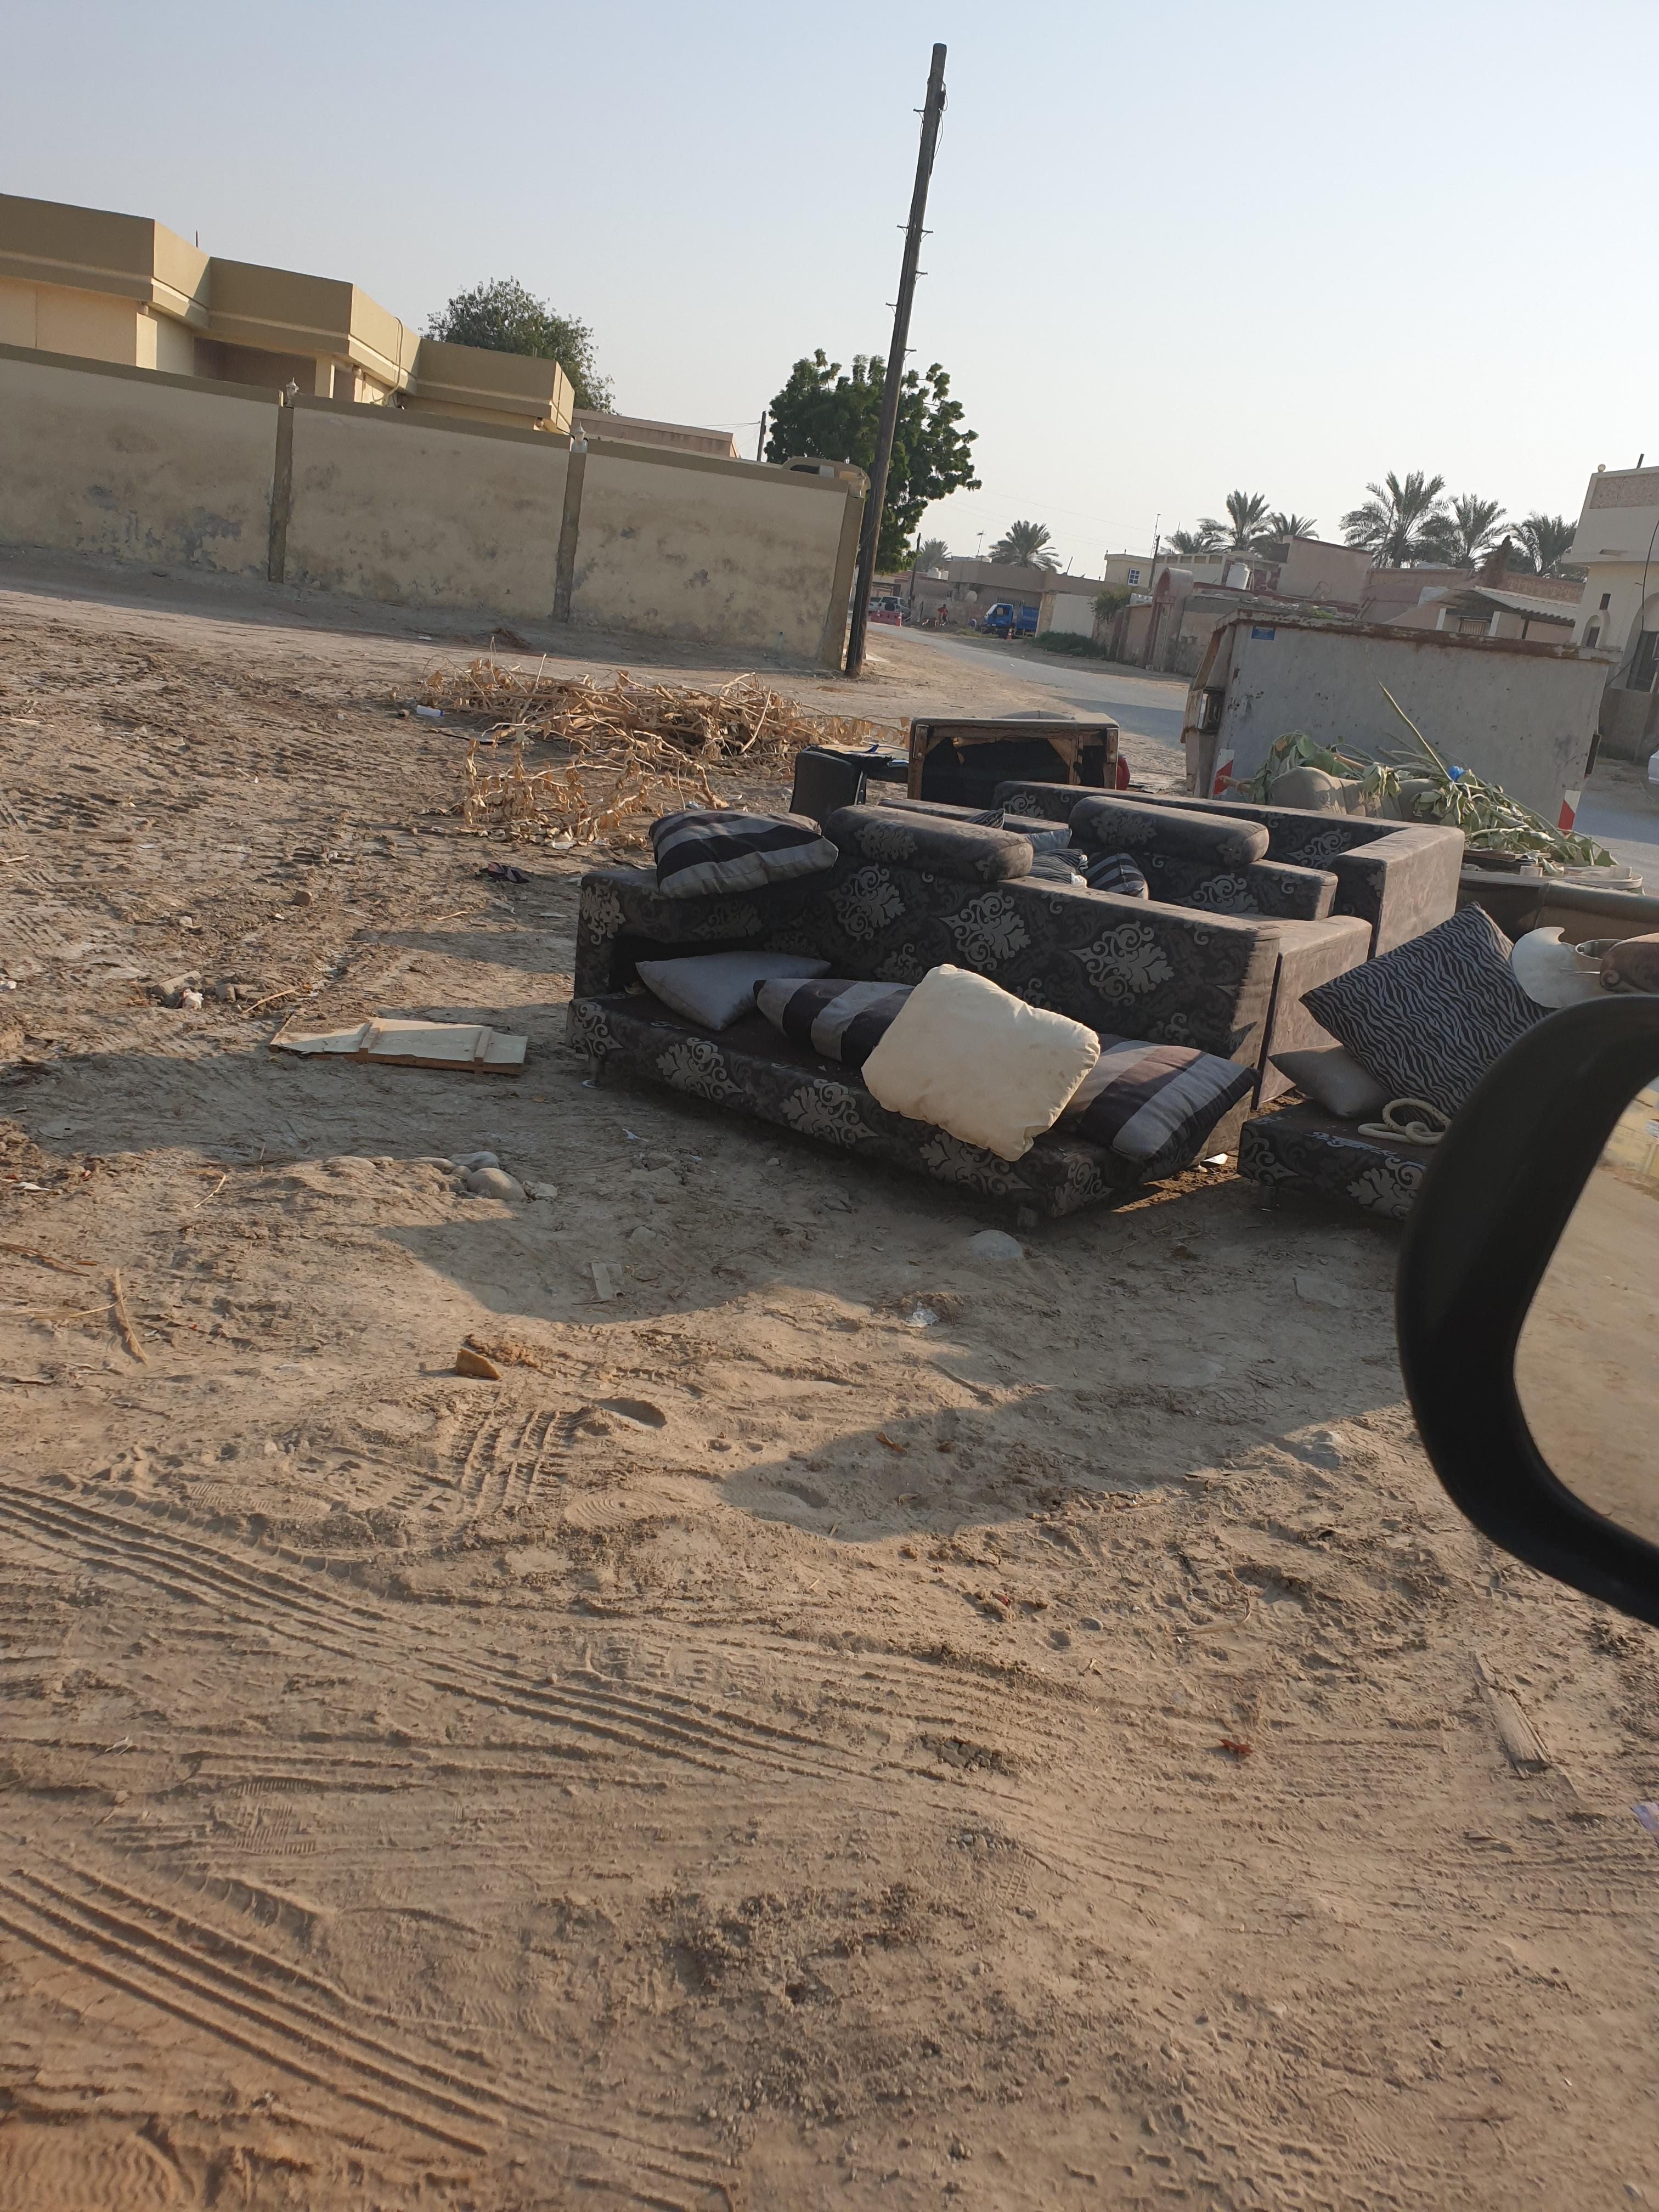fallen_trees: (375, 636, 840, 803), (322, 742, 788, 894), (1291, 740, 1626, 887)
uncollected_waste: (598, 841, 1244, 1158), (532, 815, 1159, 1106), (667, 782, 1216, 1103)
